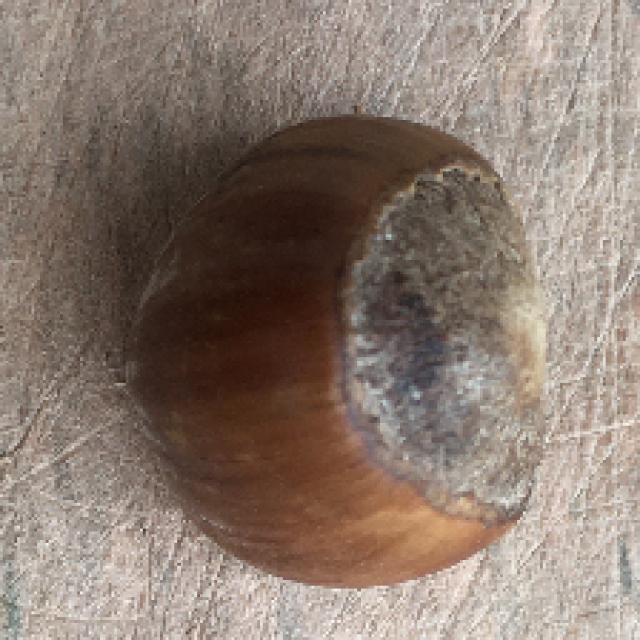DamagedHazelnut: (127, 110, 556, 587)
